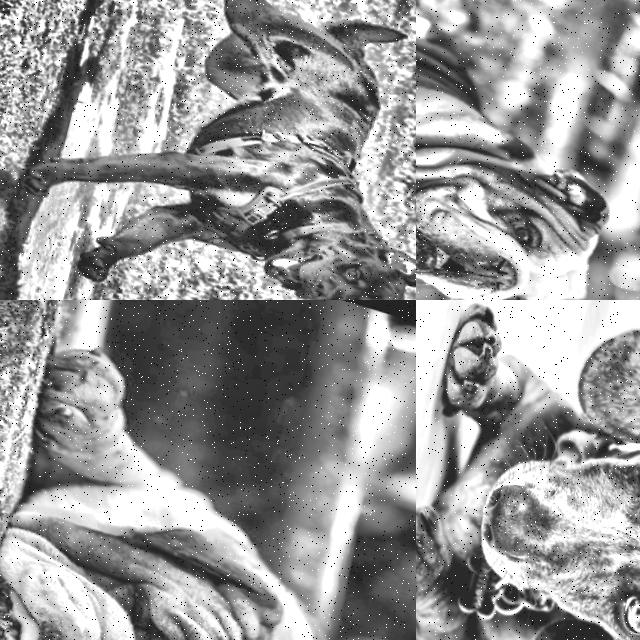beagle: (416, 300, 640, 640)
bulldog: (0, 455, 368, 640), (416, 90, 640, 300)
rottweiler: (228, 178, 416, 300)
